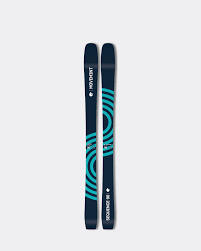skis: (80, 37, 118, 232)
